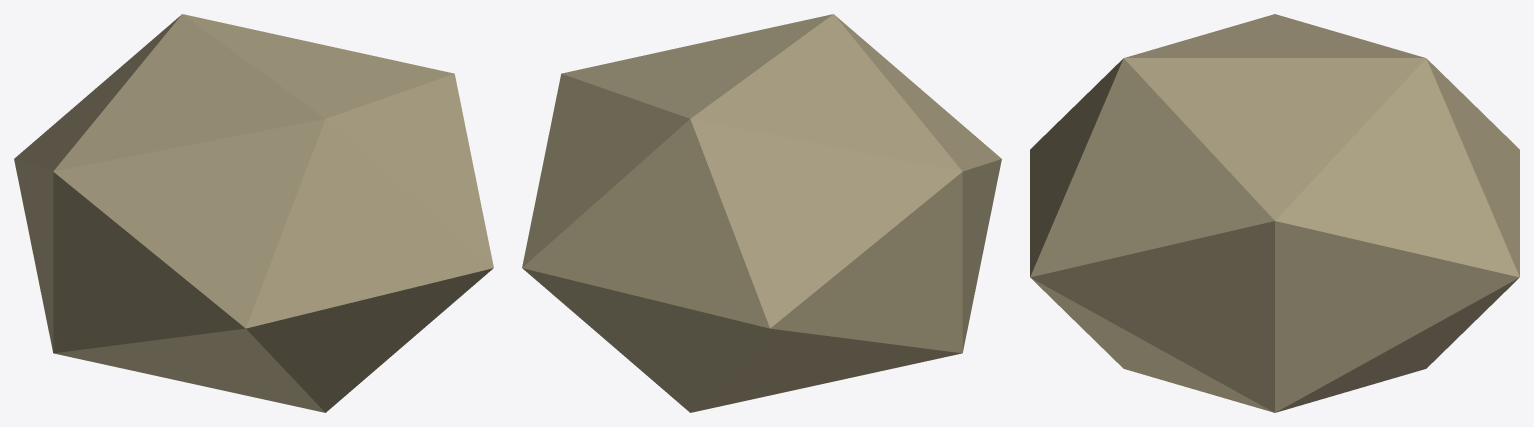
Rendered from w_strauch.glb.
The picture shows the model from 3 angles, left to right: view 1: azimuth 30°, elevation 25°; view 2: azimuth 150°, elevation 25°; view 3: azimuth 270°, elevation 25°; orthographic projection. The views are drawn at different scales.
Visible parts, largest first — view 1: koerper; view 2: koerper; view 3: koerper.
Part boxes in pixels (x1,y1,x2,y2): koerper: (14, 14, 493, 412); koerper: (522, 14, 1001, 412); koerper: (1030, 14, 1519, 412).
Bounding box in the file's own units: 1.53 × 1.07 × 1.53.
